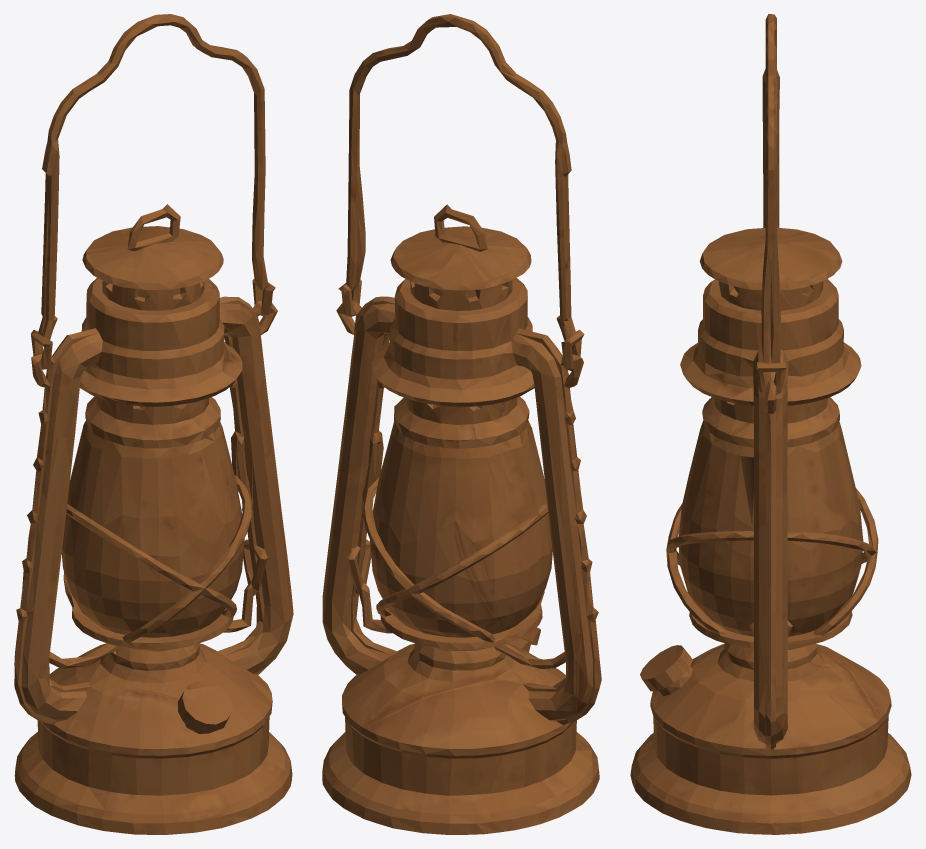
The picture shows the model from 3 angles, left to right: view 1: azimuth 30°, elevation 25°; view 2: azimuth 150°, elevation 25°; view 3: azimuth 270°, elevation 25°; orthographic projection.
Visible parts, largest first — view 1: texture_pbr_v128; view 2: texture_pbr_v128; view 3: texture_pbr_v128.
Part boxes in pixels (x1,y1,x2,y2): texture_pbr_v128: (14, 14, 293, 834); texture_pbr_v128: (322, 14, 601, 834); texture_pbr_v128: (630, 14, 911, 834).
Bounding box in the file's own units: 0.4323 × 1.13 × 0.3801.
